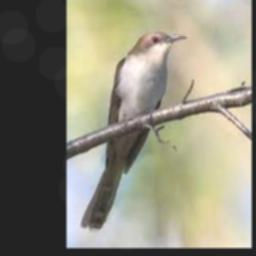Cuckoo: (82, 31, 187, 229)
